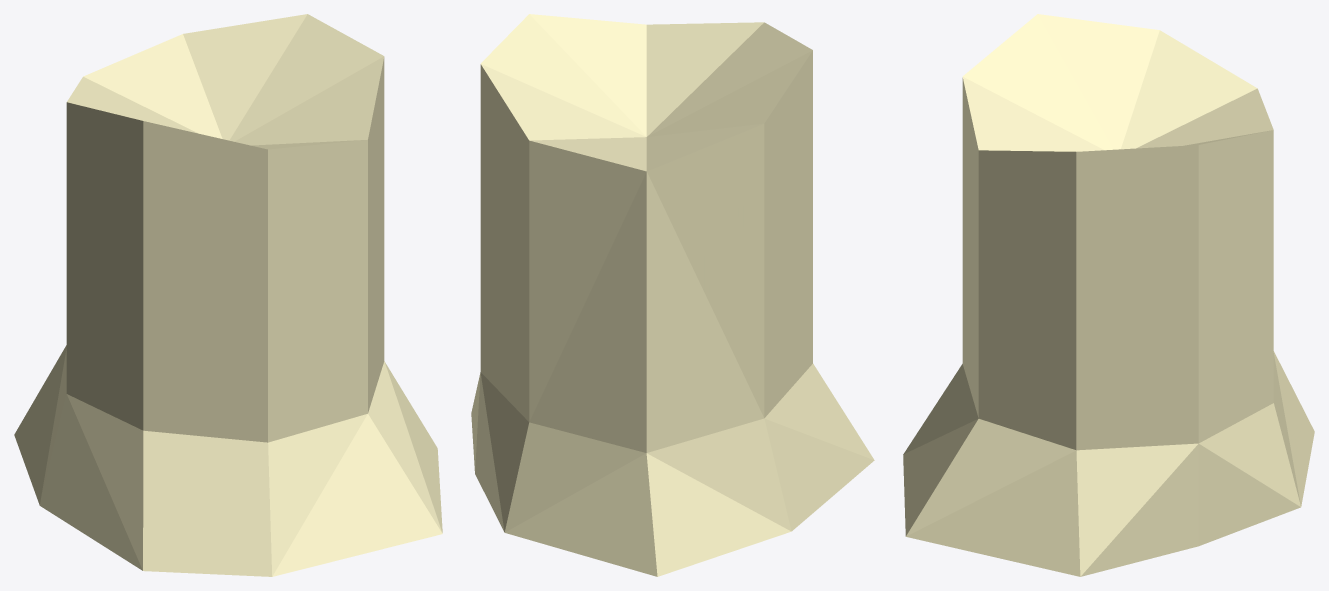
The model's file is Prop_Gothic_Candle_01.FBX.
3 views of the same model, side by side, from view 1: azimuth 30°, elevation 25°; view 2: azimuth 150°, elevation 25°; view 3: azimuth 270°, elevation 25° (orthographic). The views are drawn at different scales.
Visible parts, largest first — view 1: Prop_Gothic_Candle_01; view 2: Prop_Gothic_Candle_01; view 3: Prop_Gothic_Candle_01.
Part boxes in pixels (x1,y1,x2,y2): Prop_Gothic_Candle_01: (14,14,442,576); Prop_Gothic_Candle_01: (471,14,874,576); Prop_Gothic_Candle_01: (903,14,1314,576).
Size of the model in its own units: 113 by 128 by 116.
